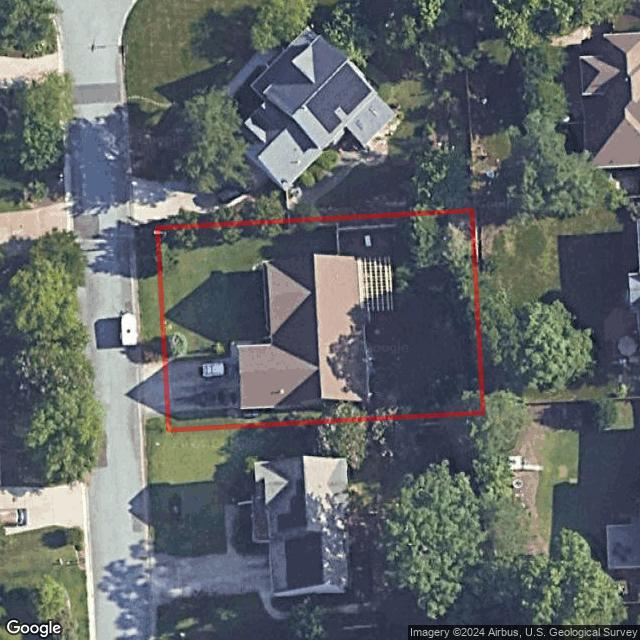Driveway: (165, 357, 240, 412)
Extra-Driveway: (142, 361, 168, 419)
Extra-Lawn: (136, 227, 165, 364), (145, 414, 169, 431)
House: (235, 253, 369, 409)
Lawn: (159, 211, 483, 430)
Other: (356, 258, 394, 311), (363, 233, 373, 248)
Sidewalk: (229, 338, 265, 354)
